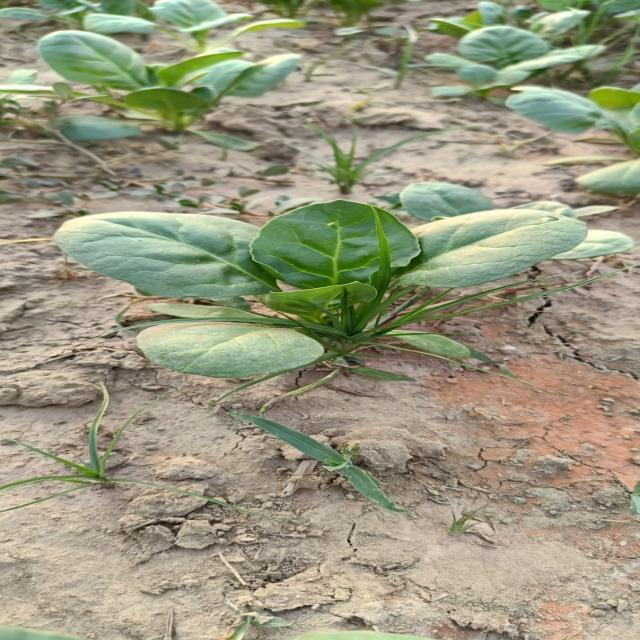plant: (52, 183, 631, 383), (37, 30, 298, 135)
